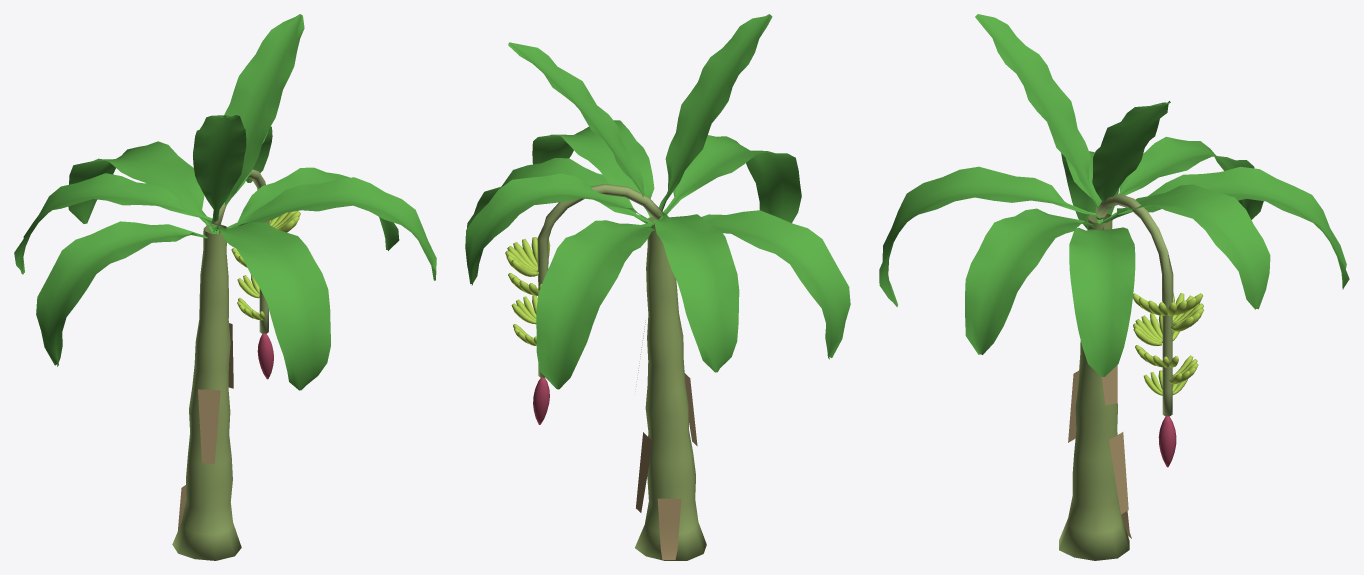
The model's file is banana_tree.fbx.
3 renders of one model, left to right at view 1: azimuth 30°, elevation 25°; view 2: azimuth 150°, elevation 25°; view 3: azimuth 270°, elevation 25°, orthographic. The views are drawn at different scales.
Parts seen in each view (by area): view 1: Leaves, Trunk, TrunkDrySheath, BananaBunch, FruitStalk, BananaHeart; view 2: Leaves, Trunk, TrunkDrySheath, BananaBunch, FruitStalk, BananaHeart; view 3: Leaves, Trunk, BananaBunch, FruitStalk, TrunkDrySheath, BananaHeart.
Part boxes in pixels (<box>): Leaves: <box>14,14,436,390</box>; Trunk: <box>172,224,241,560</box>; TrunkDrySheath: <box>177,323,233,531</box>; BananaBunch: <box>231,211,300,320</box>; FruitStalk: <box>211,169,269,333</box>; BananaHeart: <box>257,333,273,379</box>; Leaves: <box>465,14,850,389</box>; Trunk: <box>635,216,706,560</box>; TrunkDrySheath: <box>636,320,697,559</box>; BananaBunch: <box>505,237,550,345</box>; FruitStalk: <box>537,184,662,377</box>; BananaHeart: <box>533,377,549,424</box>; Leaves: <box>879,14,1349,376</box>; Trunk: <box>1059,213,1129,560</box>; BananaBunch: <box>1133,292,1203,395</box>; FruitStalk: <box>1095,194,1173,416</box>; TrunkDrySheath: <box>1068,365,1131,538</box>; BananaHeart: <box>1158,416,1176,467</box>.
Size of the model in its own units: 4.19 by 5.53 by 4.62.
